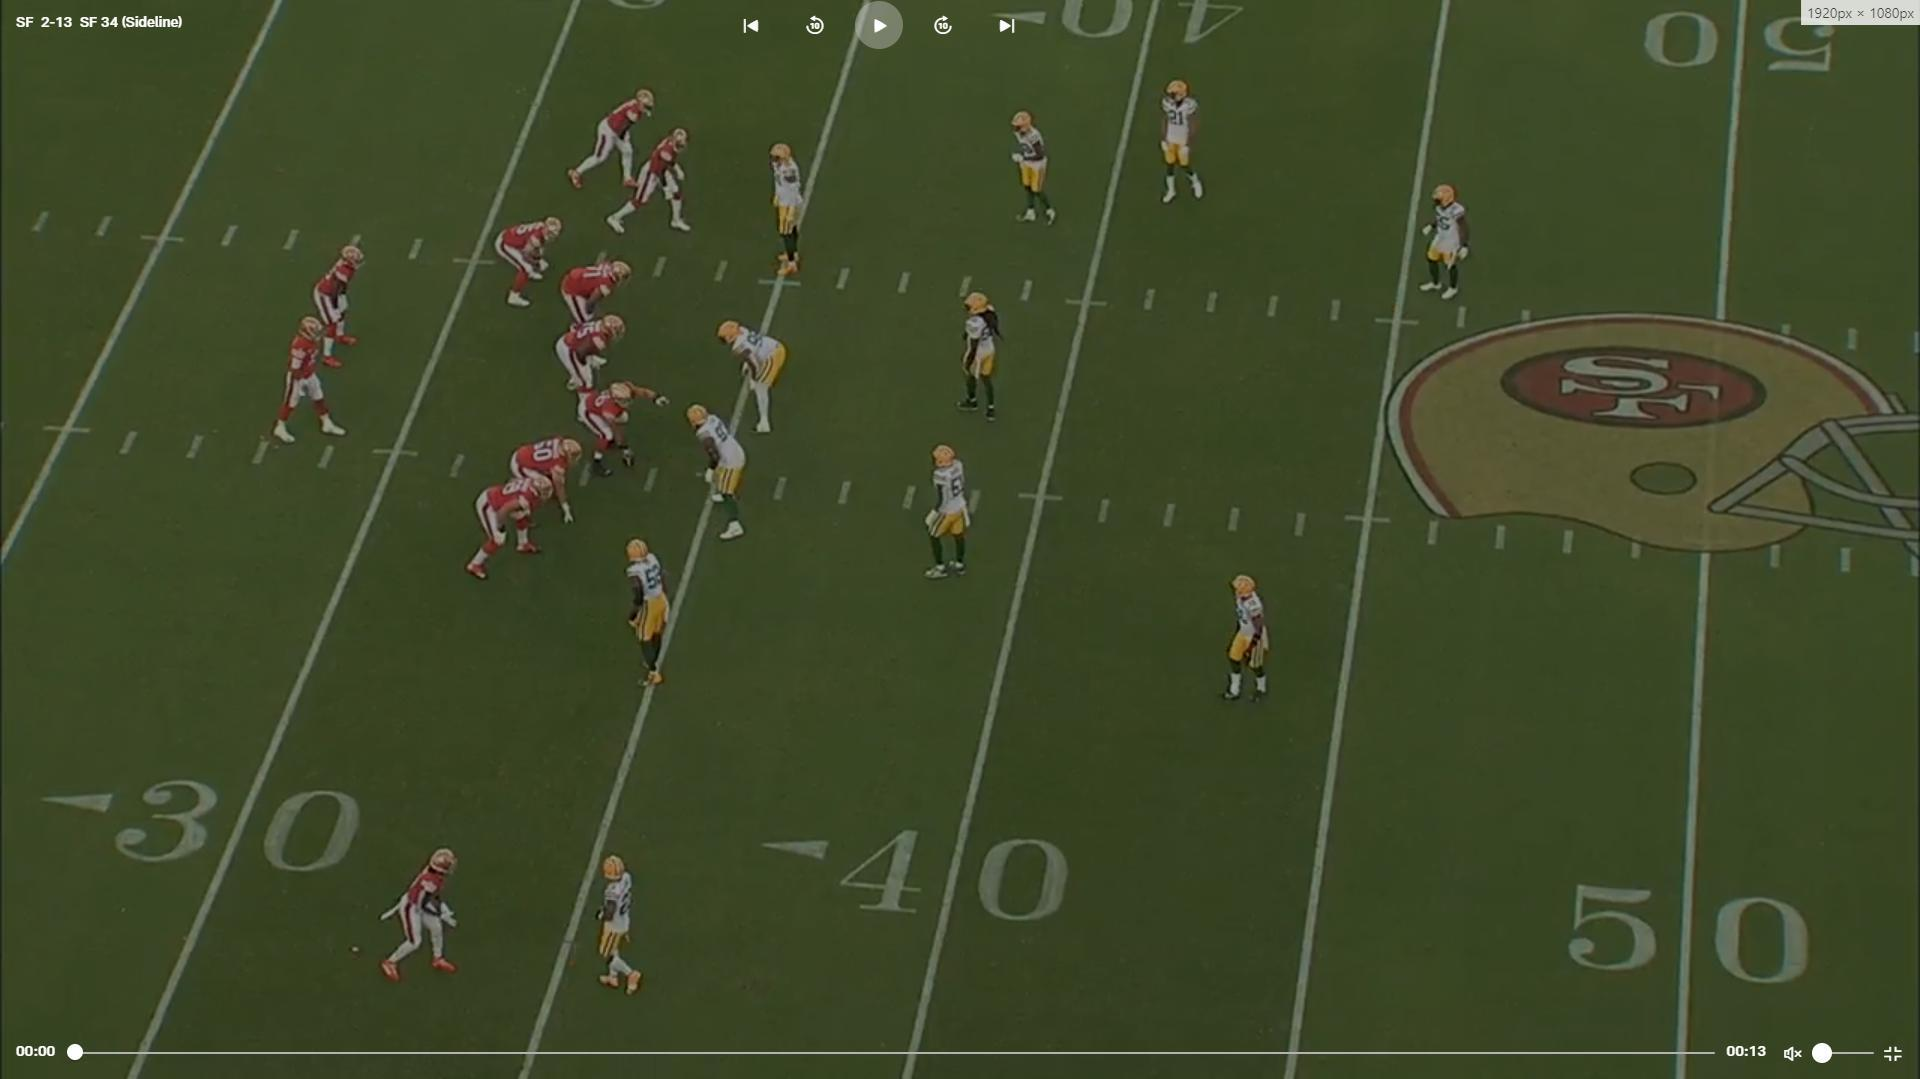defense: (589, 852, 654, 997), (692, 401, 754, 549), (621, 536, 678, 693), (719, 318, 789, 441), (1221, 574, 1280, 711), (1147, 78, 1204, 212), (923, 446, 977, 586), (955, 289, 1007, 429), (1416, 181, 1472, 306), (764, 137, 810, 281), (1010, 109, 1063, 232)
oline: (469, 472, 562, 587), (554, 313, 622, 426), (582, 380, 655, 479), (506, 434, 582, 525), (559, 257, 629, 327)
qb: (272, 310, 347, 446)
skill: (375, 848, 469, 988), (607, 123, 698, 240), (571, 84, 662, 195), (492, 215, 562, 310), (311, 245, 365, 367)
